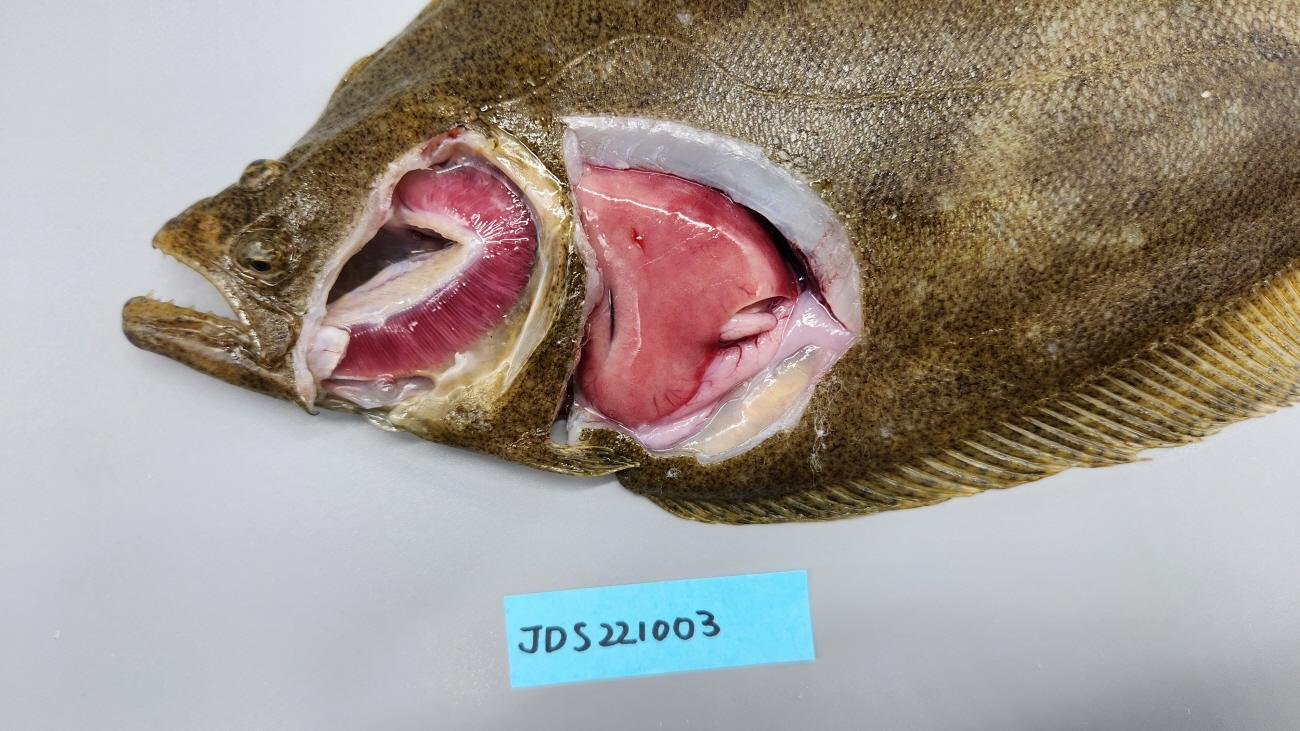VILIC: (584, 164, 789, 424)
